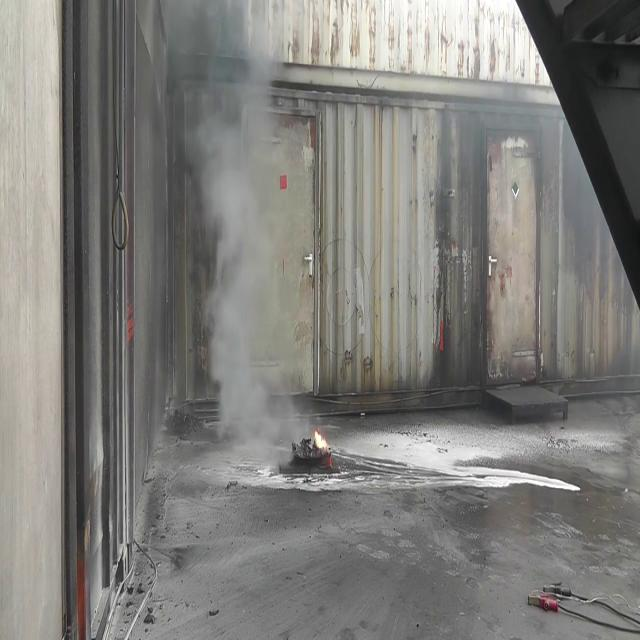Fire: (310, 421, 332, 459)
Smoke: (170, 4, 296, 472)
